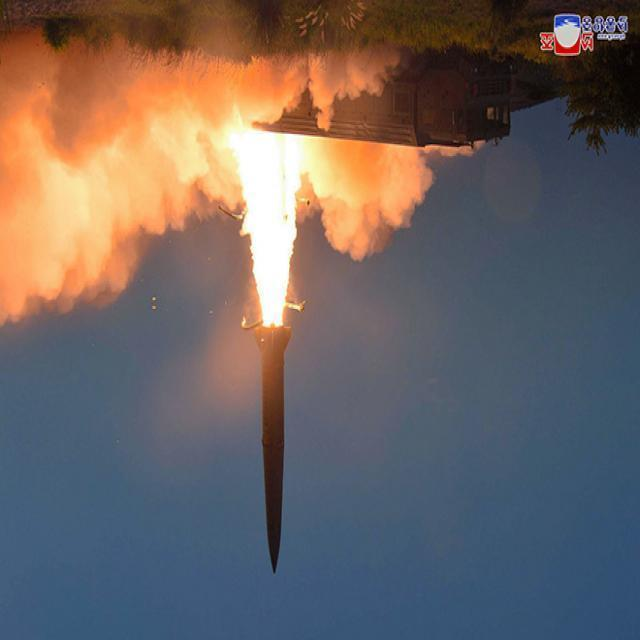missile: (244, 312, 309, 578)
